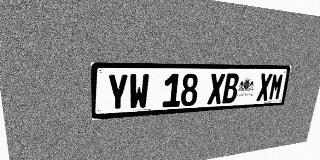1: (162, 74, 182, 108)
8: (180, 73, 199, 106)
B: (222, 73, 240, 104)
M: (268, 73, 284, 100)
W: (129, 74, 149, 110)
X: (207, 73, 225, 105), (256, 73, 273, 101)
Y: (107, 74, 128, 111)
